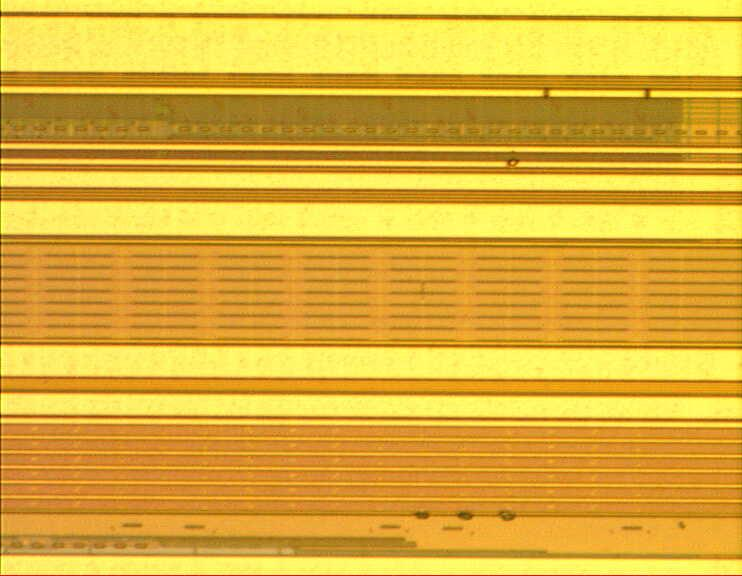PO CONTAMINATION: (410, 153, 524, 529)
